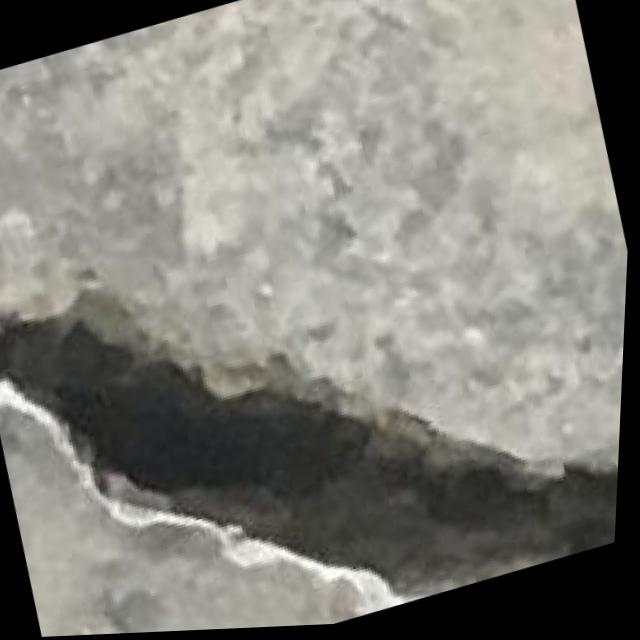Crack: (0, 137, 634, 640)
